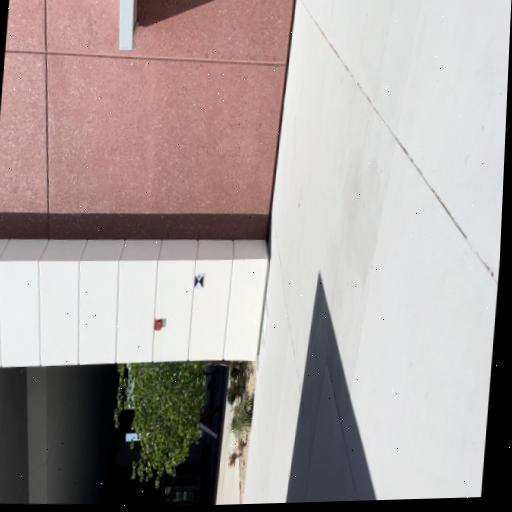target9: (193, 273, 204, 287)
